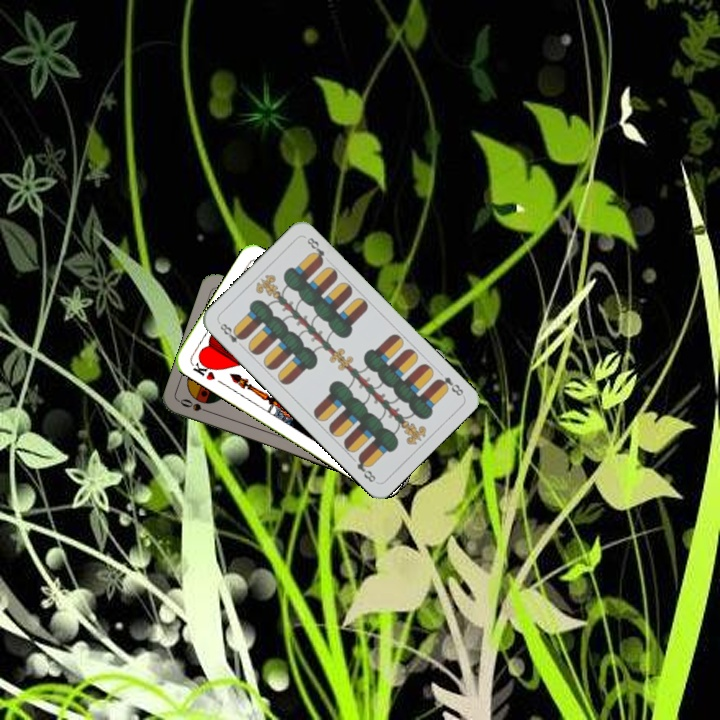E8: (432, 372, 466, 399), (215, 318, 247, 346)
HK: (188, 355, 218, 383)
SO: (176, 395, 215, 416)
